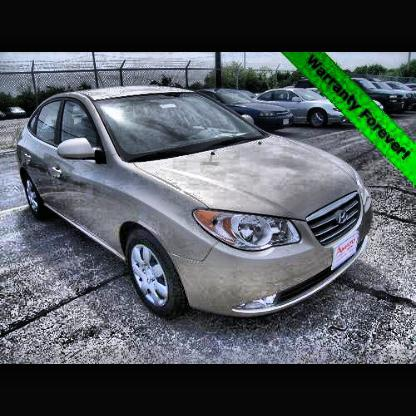Hyundai Elantra Sedan 2007: (17, 83, 378, 325)
